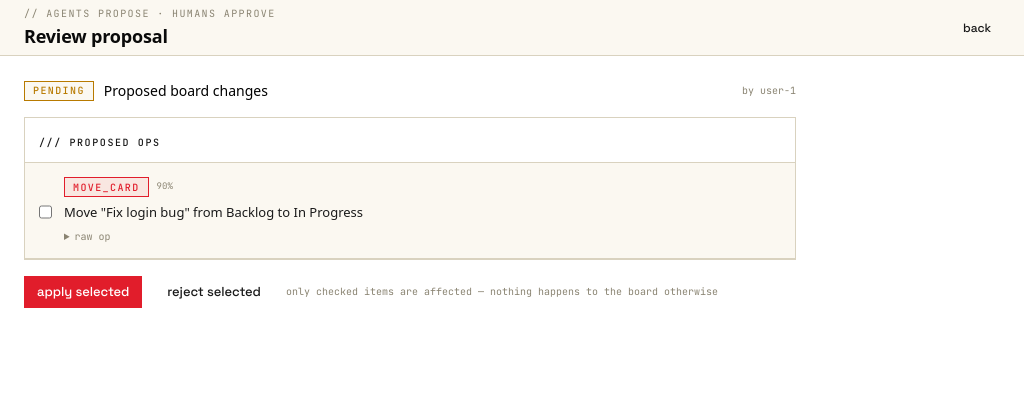
Test: ChangeSetReview › reveals the raw payload when the details summary is clicked
Click the heading "raw op": (93, 236) [75, 230, 111, 242]
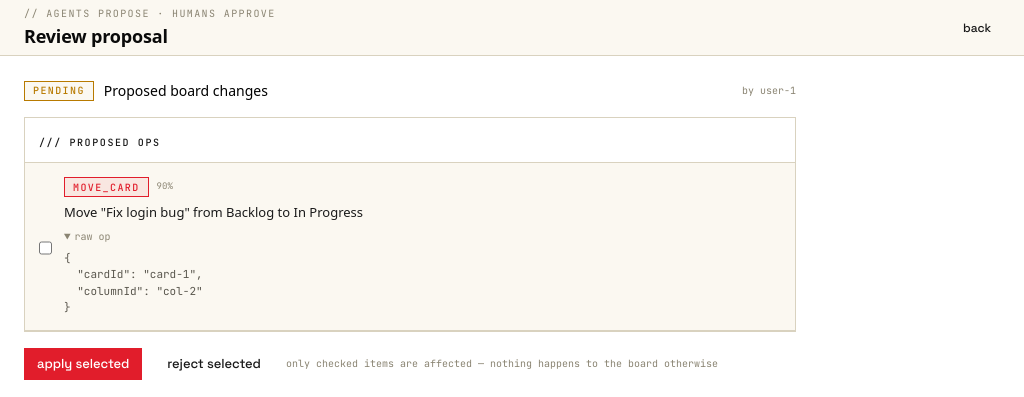
Check: the text "{ \"cardId\": \"card-1\", \"columnId\": \"col-2\" }" is shown, box [64, 250, 203, 314]
